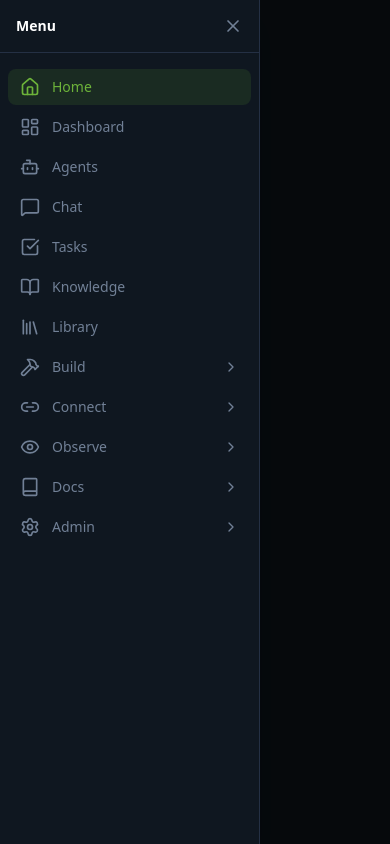
it: MobileDrawer › shows API Docs for admin
Click the button "Docs" at (130, 487), box [8,469,251,505]
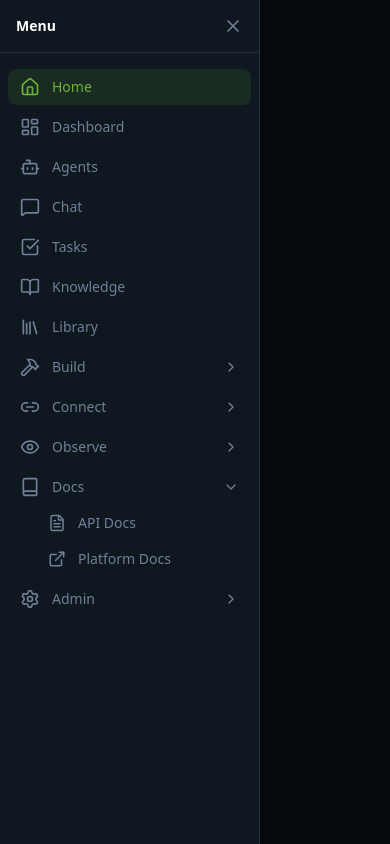
Expected: the link "API Docs" is shown, [48,513,136,532]
